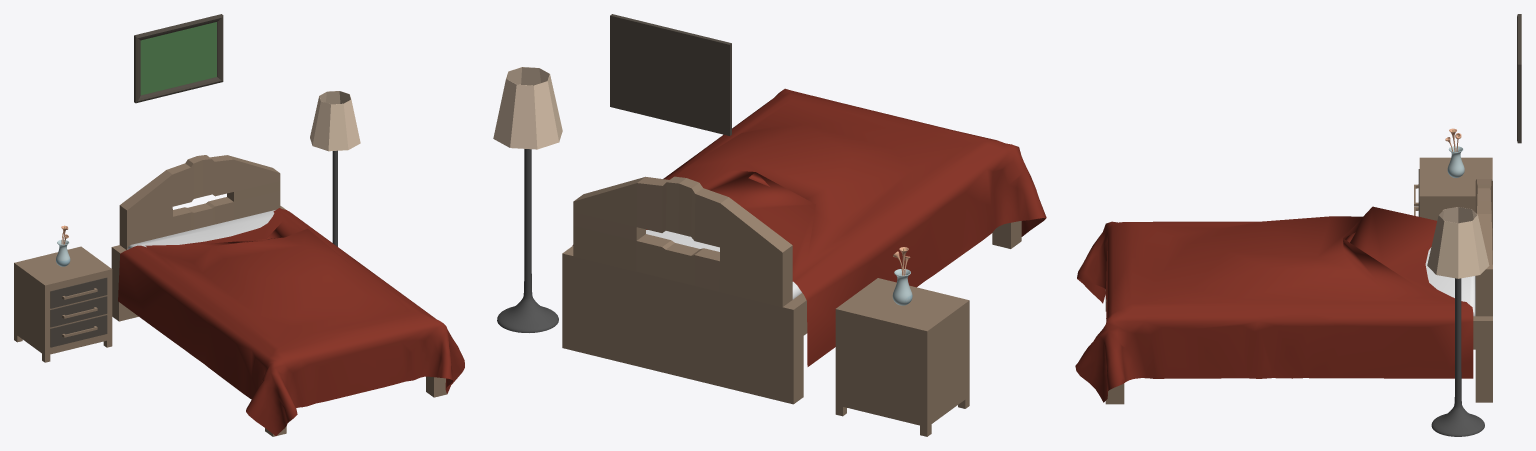
The model's file is Bedroom(1).fbx.
3 views of the same model, side by side, from view 1: azimuth 30°, elevation 25°; view 2: azimuth 150°, elevation 25°; view 3: azimuth 270°, elevation 25° (orthographic). The views are drawn at different scales.
Visible parts, largest first — view 1: Sheet, Bed, Nightstand, Plane, Lamp, Matt; view 2: Sheet, Bed, Nightstand, Plane, Lamp, Matt, Bottle; view 3: Sheet, Lamp, Bed, Nightstand, Matt, Plane.
Boxes of the visible parts, <box> form: Sheet: <box>118,208,464,435</box>; Bed: <box>111,155,446,436</box>; Nightstand: <box>14,246,112,362</box>; Plane: <box>134,14,223,103</box>; Lamp: <box>310,91,360,246</box>; Matt: <box>127,210,275,249</box>; Sheet: <box>572,88,1046,366</box>; Bed: <box>562,176,1021,404</box>; Nightstand: <box>835,278,969,436</box>; Plane: <box>610,14,731,135</box>; Lamp: <box>493,67,562,332</box>; Matt: <box>646,230,801,299</box>; Bottle: <box>892,269,911,305</box>; Sheet: <box>1075,206,1473,402</box>; Lamp: <box>1427,207,1489,436</box>; Bed: <box>1105,179,1492,404</box>; Nightstand: <box>1414,157,1492,220</box>; Matt: <box>1425,247,1475,316</box>; Plane: <box>1517,14,1521,143</box>.
Bounding box in the file's own units: 2454 × 1876 × 2438.
